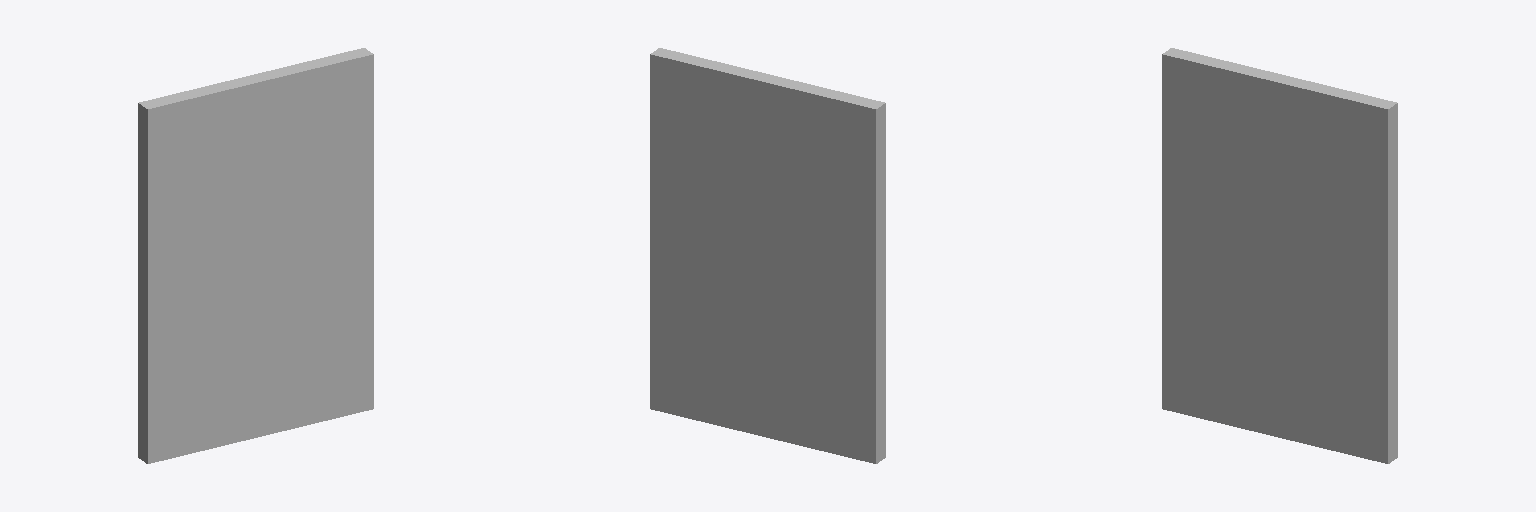
File: BrakeRooomWall.obj
3 views of the same model, side by side, from view 1: azimuth 30°, elevation 25°; view 2: azimuth 150°, elevation 25°; view 3: azimuth 330°, elevation 25° (orthographic).
Visible parts, largest first — view 1: BrakeRooomWall; view 2: BrakeRooomWall; view 3: BrakeRooomWall.
Part boxes in pixels (x1,y1,x2,y2): BrakeRooomWall: (138, 48, 373, 463); BrakeRooomWall: (650, 48, 885, 463); BrakeRooomWall: (1162, 48, 1397, 463).
Bounding box in the file's own units: 10 × 15 × 0.7039.